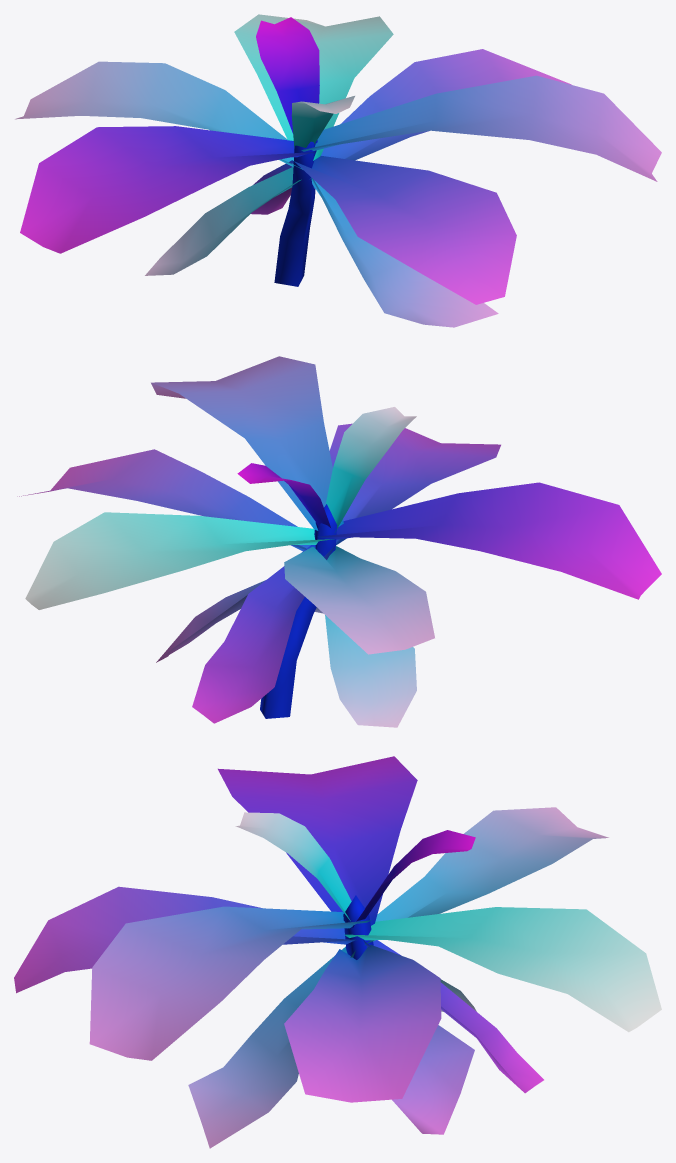
The model's file is sfcnq_VarC_LOD0.fbx.
The picture shows the model from 3 angles, top to bottom: view 1: azimuth 30°, elevation 25°; view 2: azimuth 150°, elevation 25°; view 3: azimuth 270°, elevation 25°; orthographic projection. The views are drawn at different scales.
Parts seen in each view (by area): view 1: _4770_VarC_LOD1; view 2: _4770_VarC_LOD1; view 3: _4770_VarC_LOD1.
Boxes of the visible parts, x1=… form: _4770_VarC_LOD1: x1=15, y1=14, x2=661, y2=327; _4770_VarC_LOD1: x1=17, y1=356, x2=661, y2=727; _4770_VarC_LOD1: x1=14, y1=756, x2=661, y2=1148.
Size of the model in its own units: 44.41 by 17.85 by 39.4.
